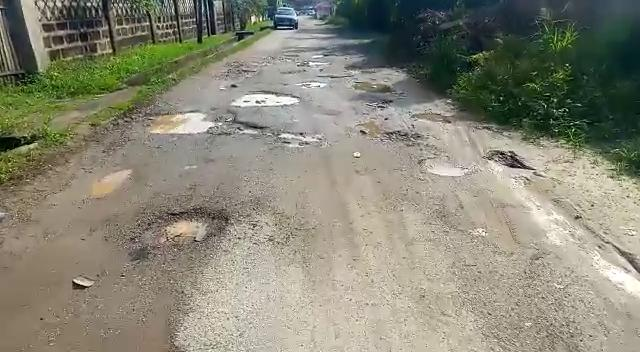pothole: (151, 206, 231, 245), (139, 110, 228, 136), (237, 124, 307, 147), (229, 91, 300, 106), (424, 159, 473, 176)
